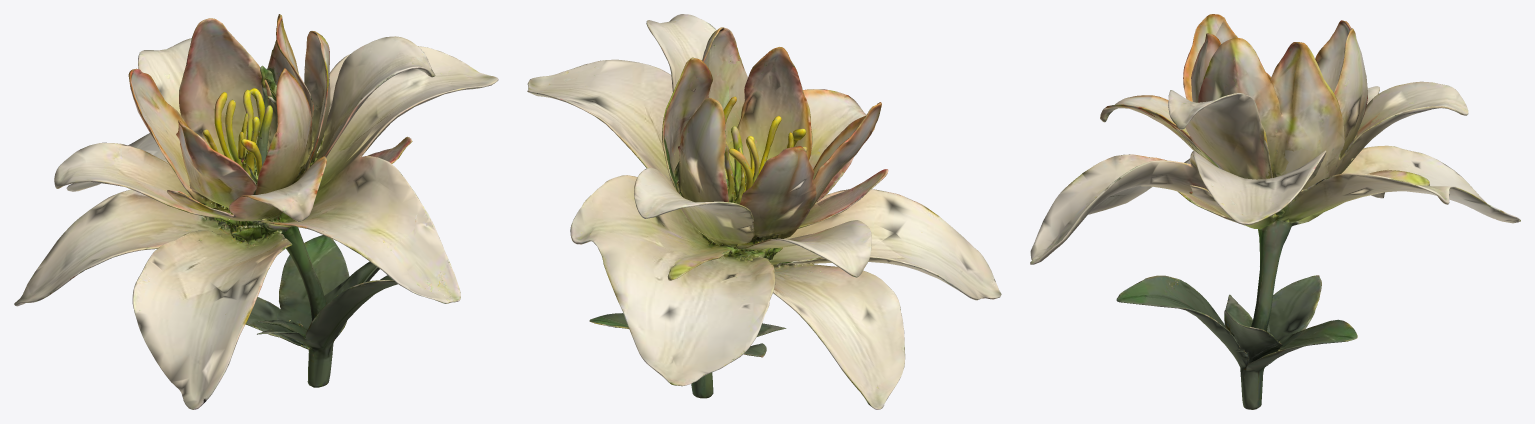
File: lily.glb
3 renders of one model, left to right at view 1: azimuth 30°, elevation 25°; view 2: azimuth 150°, elevation 25°; view 3: azimuth 270°, elevation 25°, orthographic.
Bounding box in the file's own units: 1.96 × 1.63 × 1.98.
1 material, 1 textured.
